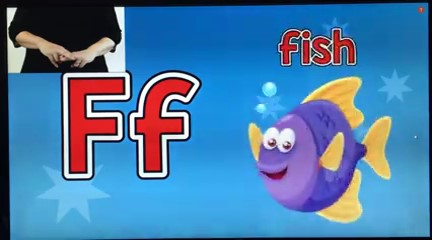F: (39, 35, 95, 72)
